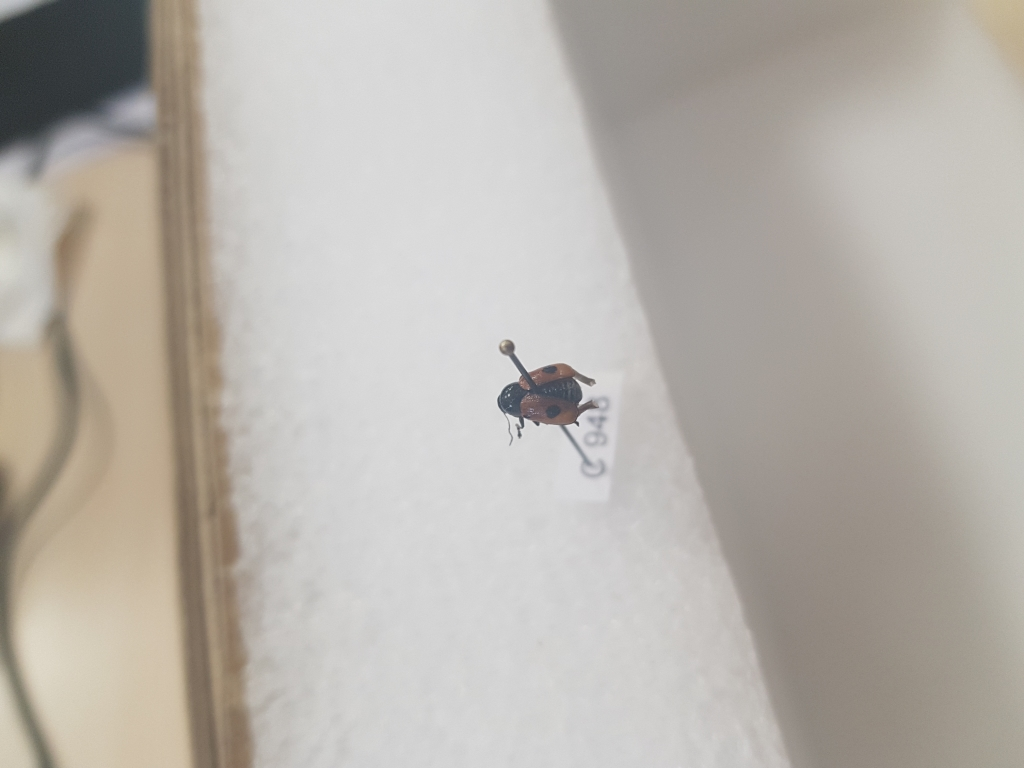Cryptocephalus_bipunctatus: (494, 355, 604, 452)
